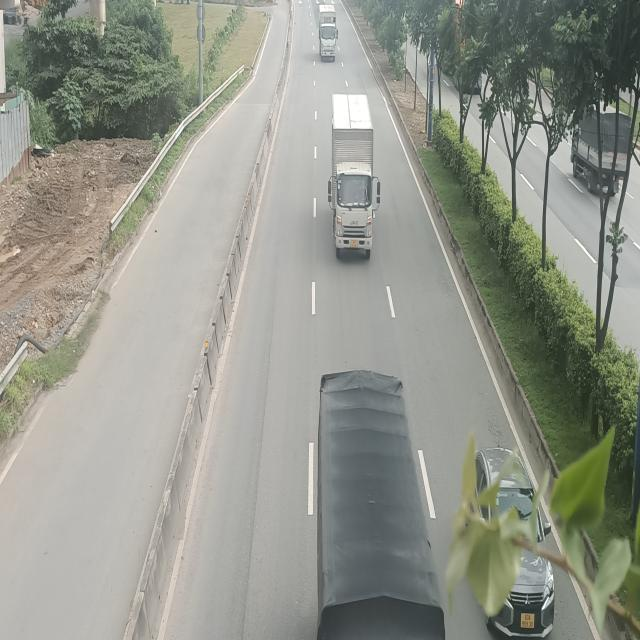truck: (328, 93, 381, 260), (317, 0, 338, 61)
